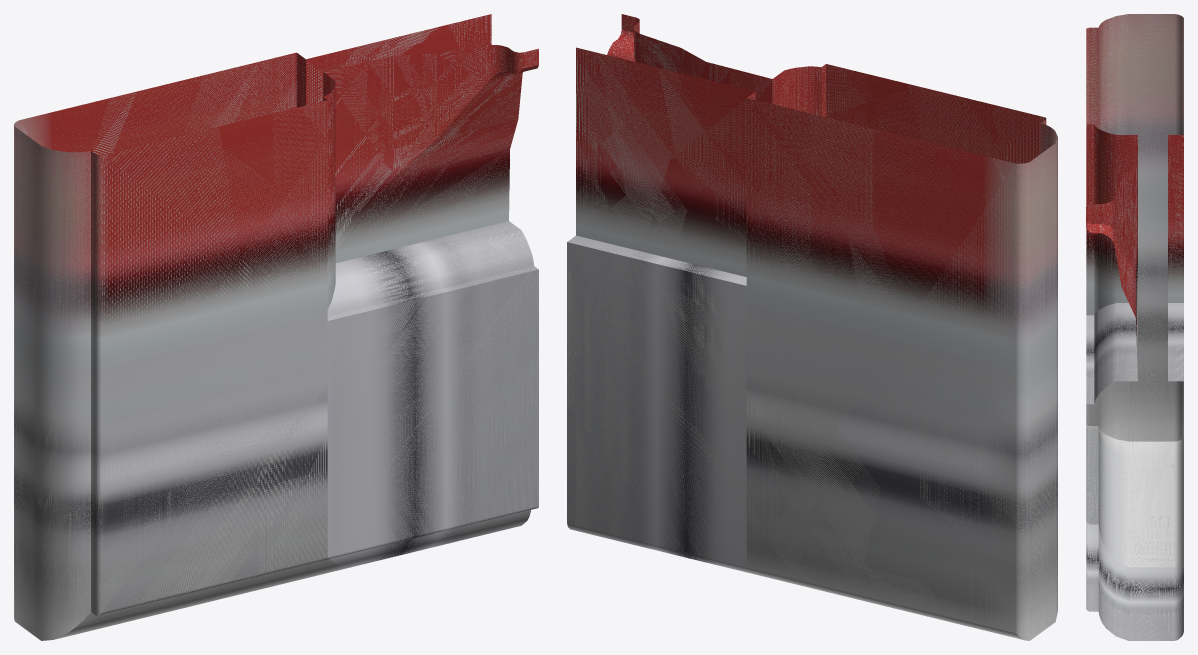
Rendered from original-40.obj.
3 views of the same model, side by side, from view 1: azimuth 30°, elevation 25°; view 2: azimuth 150°, elevation 25°; view 3: azimuth 270°, elevation 25° (orthographic). The views are drawn at different scales.
Visible parts, largest first — view 1: LT_11_BL1/LT_11_BL/mesh31/mesh31-geometry#mesh31-geometry; view 2: LT_11_BL1/LT_11_BL/mesh31/mesh31-geometry#mesh31-geometry; view 3: LT_11_BL1/LT_11_BL/mesh31/mesh31-geometry#mesh31-geometry.
Part boxes in pixels (x1,y1,x2,y2): LT_11_BL1/LT_11_BL/mesh31/mesh31-geometry#mesh31-geometry: [14, 14, 538, 640]; LT_11_BL1/LT_11_BL/mesh31/mesh31-geometry#mesh31-geometry: [567, 14, 1057, 640]; LT_11_BL1/LT_11_BL/mesh31/mesh31-geometry#mesh31-geometry: [1086, 14, 1183, 640].
Size of the model in its own units: 0.1375 by 0.1375 by 0.0285.
